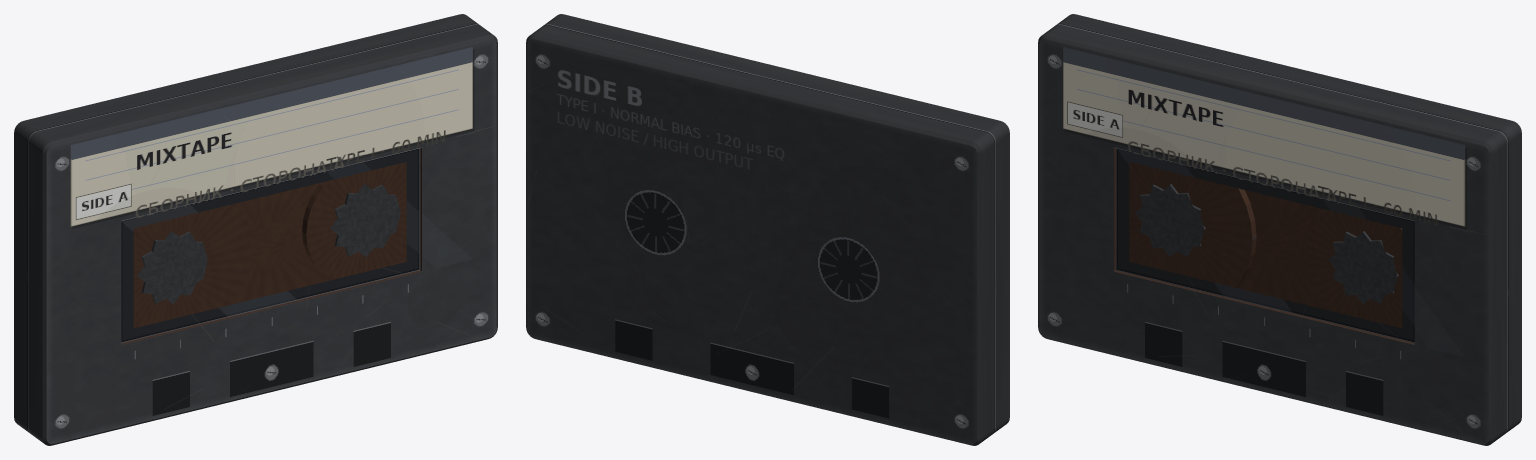
The model's file is ue_cassette.obj.
3 renders of one model, left to right at view 1: azimuth 30°, elevation 25°; view 2: azimuth 150°, elevation 25°; view 3: azimuth 330°, elevation 25°, orthographic.
Parts seen in each view (by area): view 1: shell, label, window, tape_left, cavity, tape_right, hub_left, hub_right; view 2: shell; view 3: shell, label, window, tape_left, cavity, tape_right, hub_right, hub_left.
Part boxes in pixels (<box>): shell: <box>14,14,497,445</box>; label: <box>72,47,472,226</box>; window: <box>121,148,420,343</box>; tape_left: <box>133,203,252,328</box>; cavity: <box>121,147,421,344</box>; tape_right: <box>302,163,406,279</box>; hub_left: <box>137,231,207,304</box>; hub_right: <box>330,184,400,256</box>; shell: <box>526,14,1009,445</box>; shell: <box>1038,14,1521,445</box>; label: <box>1063,47,1463,226</box>; window: <box>1115,148,1414,343</box>; tape_left: <box>1129,162,1256,287</box>; cavity: <box>1114,147,1414,344</box>; tape_right: <box>1306,210,1402,326</box>; hub_right: <box>1328,231,1398,304</box>; hub_left: <box>1135,184,1205,256</box>.
Size of the model in its own units: 0.1 by 0.0638 by 0.0122.
2 materials, 2 textured.
